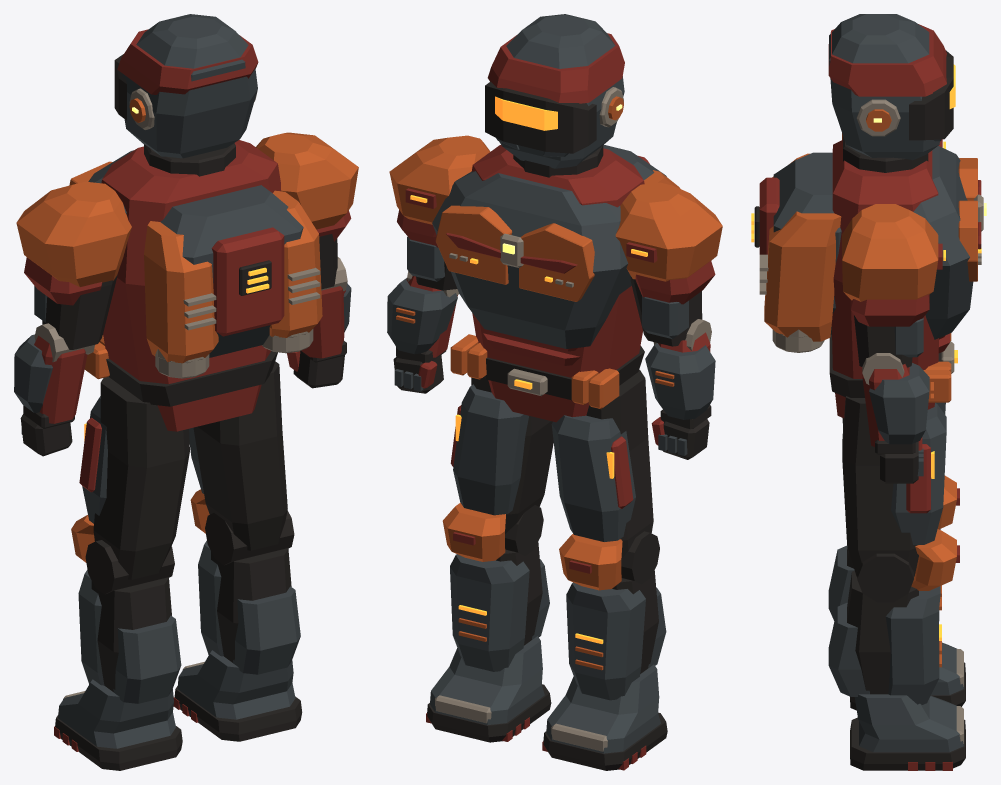
The model's file is cinder_trooper.glb.
3 views of the same model, side by side, from view 1: azimuth 30°, elevation 25°; view 2: azimuth 150°, elevation 25°; view 3: azimuth 270°, elevation 25° (orthographic). The views are drawn at different scales.
Parts seen in each view (by area): view 1: Industrial jump pack | Geometry, Torso | Geometry, Helmet | Geometry, Left thigh | Geometry, Left upper arm | Geometry, Left shin | Geometry, Right shin | Geometry, Right thigh | Geometry, Left boot | Geometry, Right boot | Geometry, Right upper arm | Geometry, Left forearm | Geometry (+3 smaller); view 2: Torso | Geometry, Helmet | Geometry, Left shin | Geometry, Right shin | Geometry, Left thigh | Geometry, Left upper arm | Geometry, Right thigh | Geometry, Right boot | Geometry, Left boot | Geometry, Right upper arm | Geometry, Left forearm | Geometry, Right forearm | Geometry (+3 smaller); view 3: Torso | Geometry, Helmet | Geometry, Right shin | Geometry, Industrial jump pack | Geometry, Right upper arm | Geometry, Right thigh | Geometry, Right boot | Geometry, Right forearm | Geometry, Left shin | Geometry, Left boot | Geometry, Right gauntlet | Geometry.
Part boxes in pixels (left/top/right/bottom): Industrial jump pack | Geometry: left=144, top=185, right=322, bottom=378; Torso | Geometry: left=69, top=140, right=280, bottom=431; Helmet | Geometry: left=114, top=14, right=258, bottom=176; Left thigh | Geometry: left=79, top=377, right=189, bottom=579; Left upper arm | Geometry: left=16, top=181, right=131, bottom=349; Left shin | Geometry: left=71, top=515, right=181, bottom=703; Right shin | Geometry: left=190, top=489, right=300, bottom=674; Right thigh | Geometry: left=189, top=361, right=287, bottom=550; Left boot | Geometry: left=54, top=679, right=182, bottom=770; Right boot | Geometry: left=173, top=650, right=302, bottom=741; Right upper arm | Geometry: left=256, top=132, right=358, bottom=289; Left forearm | Geometry: left=14, top=323, right=94, bottom=428; Torso | Geometry: left=432, top=145, right=644, bottom=422; Helmet | Geometry: left=485, top=14, right=624, bottom=177; Left shin | Geometry: left=559, top=531, right=666, bottom=700; Right shin | Geometry: left=442, top=502, right=549, bottom=671; Left thigh | Geometry: left=551, top=369, right=653, bottom=559; Left upper arm | Geometry: left=615, top=182, right=722, bottom=346; Right thigh | Geometry: left=450, top=376, right=553, bottom=533; Right boot | Geometry: left=426, top=636, right=551, bottom=742; Left boot | Geometry: left=542, top=664, right=667, bottom=770; Right upper arm | Geometry: left=389, top=135, right=490, bottom=290; Left forearm | Geometry: left=645, top=319, right=715, bottom=428; Right forearm | Geometry: left=387, top=271, right=459, bottom=363; Torso | Geometry: left=829, top=140, right=986, bottom=418; Helmet | Geometry: left=828, top=14, right=955, bottom=172; Right shin | Geometry: left=828, top=529, right=959, bottom=704; Industrial jump pack | Geometry: left=751, top=152, right=841, bottom=352; Right upper arm | Geometry: left=842, top=204, right=945, bottom=367; Right thigh | Geometry: left=842, top=396, right=946, bottom=576; Right boot | Geometry: left=850, top=694, right=965, bottom=770; Right forearm | Geometry: left=862, top=353, right=933, bottom=454; Left shin | Geometry: left=828, top=475, right=959, bottom=620; Left boot | Geometry: left=850, top=642, right=965, bottom=710; Right gauntlet | Geometry: left=880, top=437, right=923, bottom=483.
Size of the model in its own units: 0.85 by 1.8 by 0.55.
